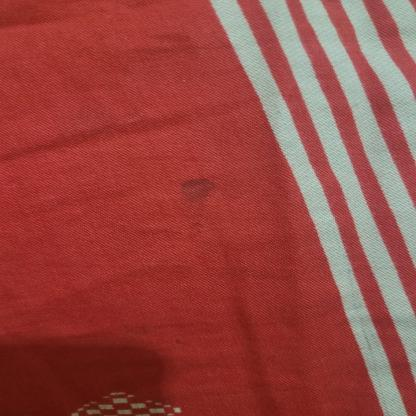spot: (162, 171, 226, 240), (146, 29, 215, 41)
